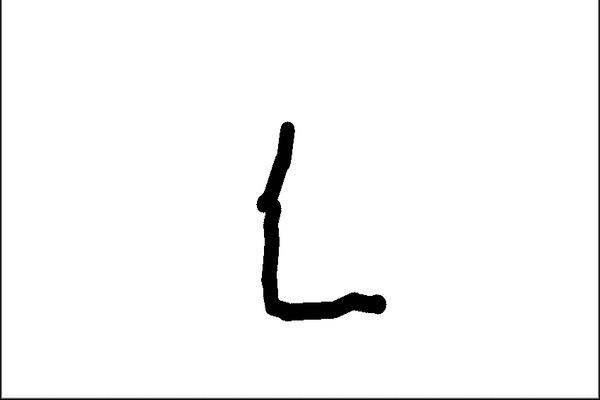L: (247, 114, 390, 329)
